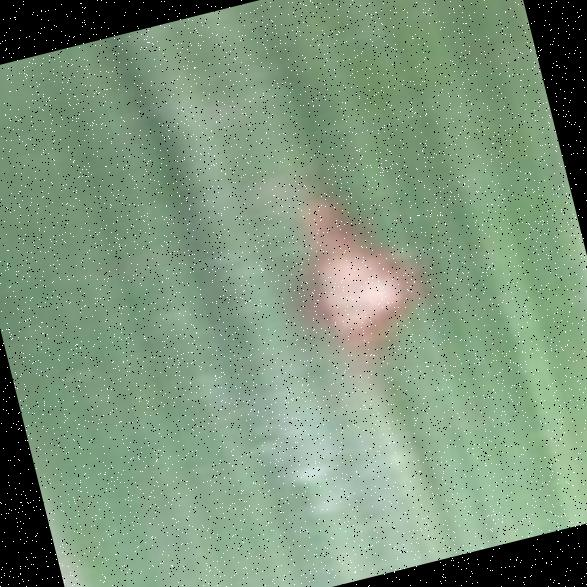Leaf_smut: (263, 148, 468, 408)
